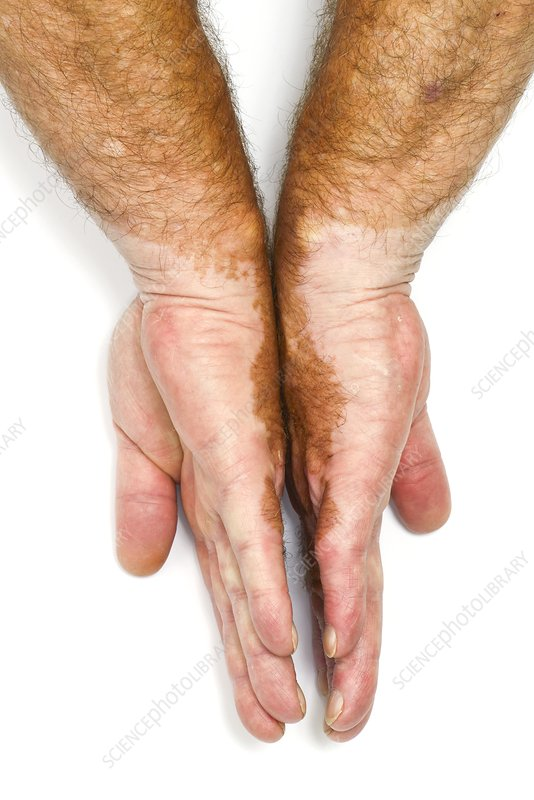vitiligo: (74, 172, 457, 687)
